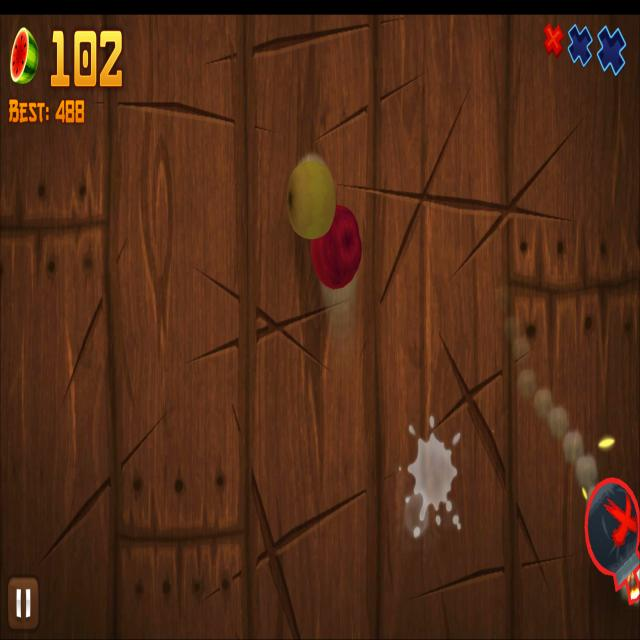bomb: (584, 476, 640, 606)
fruit: (310, 204, 362, 290), (288, 159, 336, 240)
